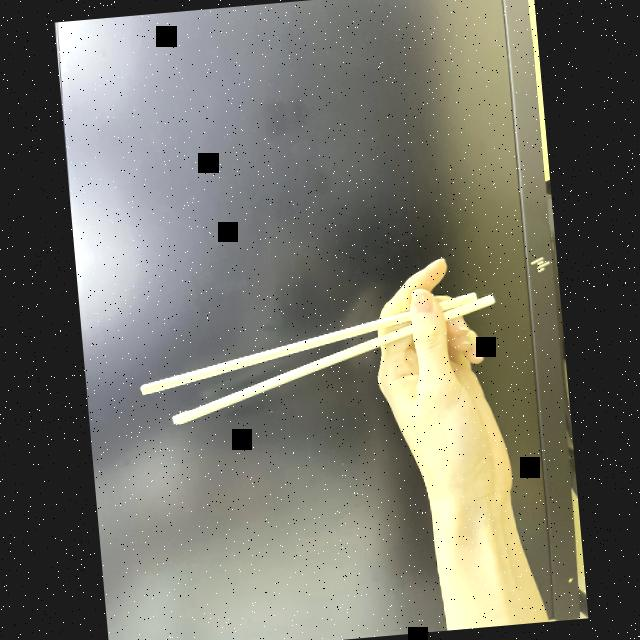stick: (130, 260, 498, 445)
